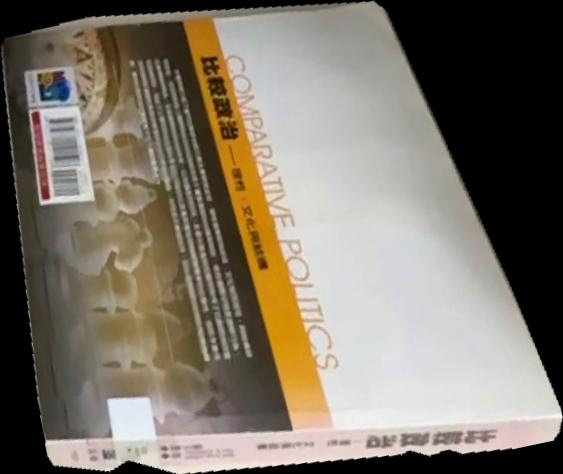flat: (1, 1, 563, 474)
